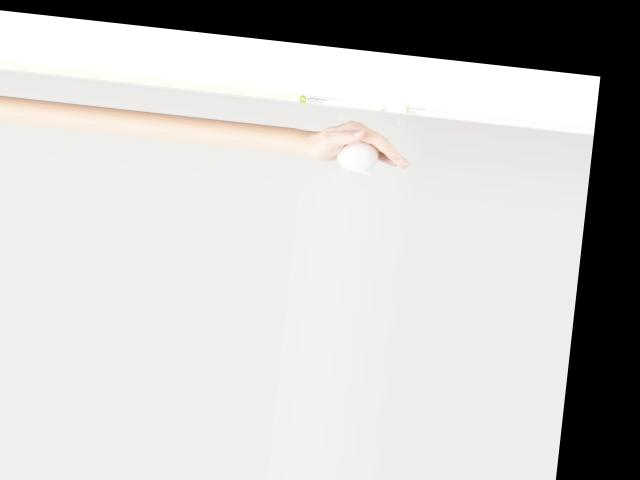egg: (335, 139, 380, 171)
